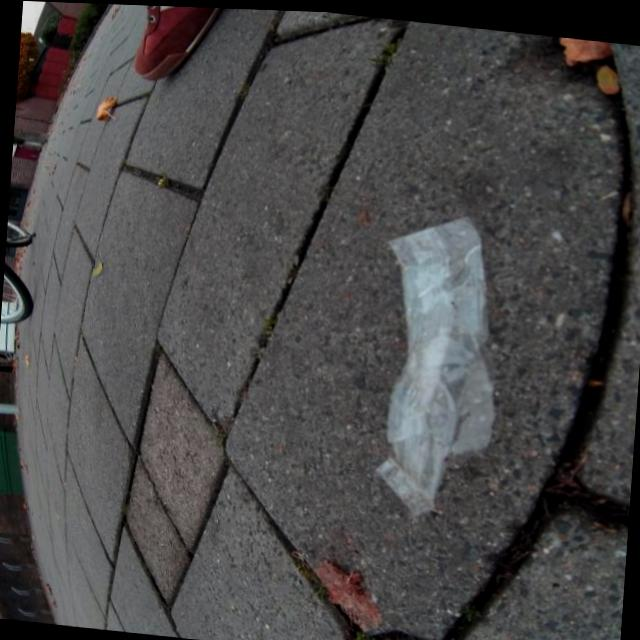Plastic: (362, 203, 509, 526)
